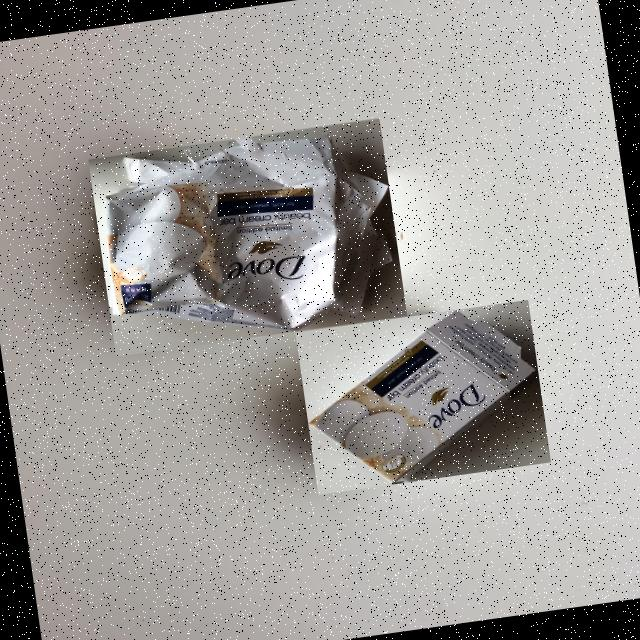Other carton: (308, 310, 539, 485)
Plastic film: (105, 134, 393, 333)
